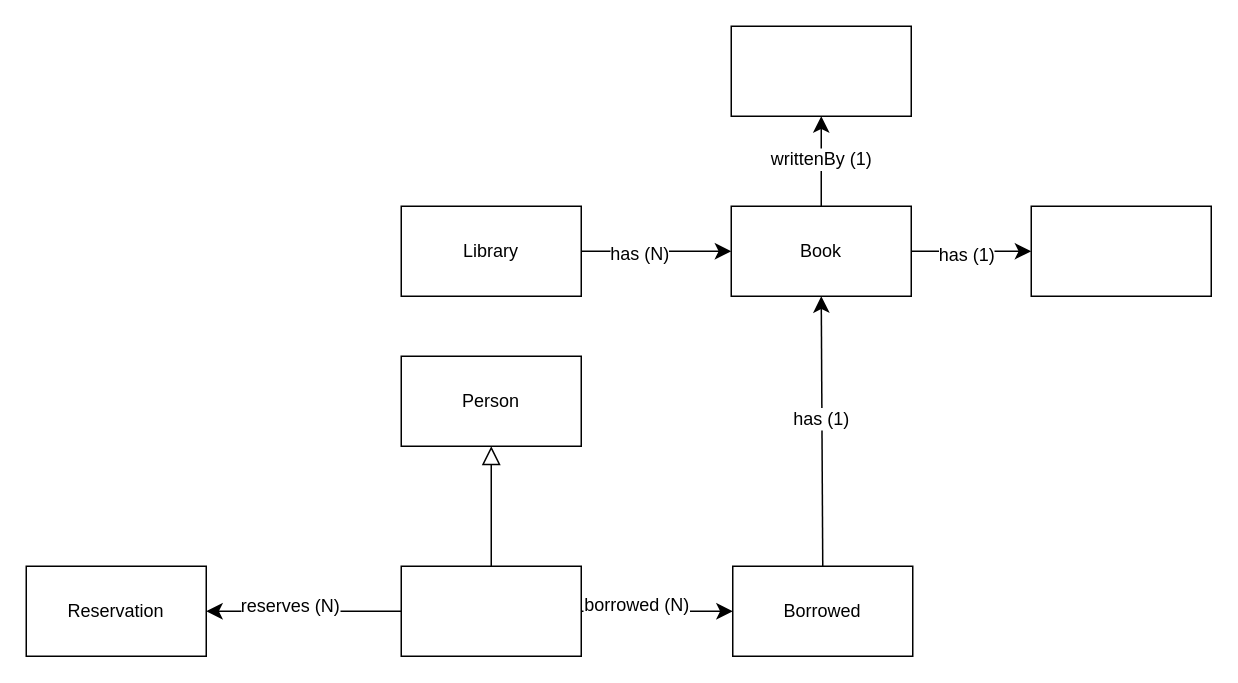
The diagram is 1238 pixels wide and 683 high, and some of its shapes have lost their labels. The centre of each missing label's shape, as x and y in pixels:
Author: point (820, 70)
Category: point (1120, 250)
Member: point (490, 610)
